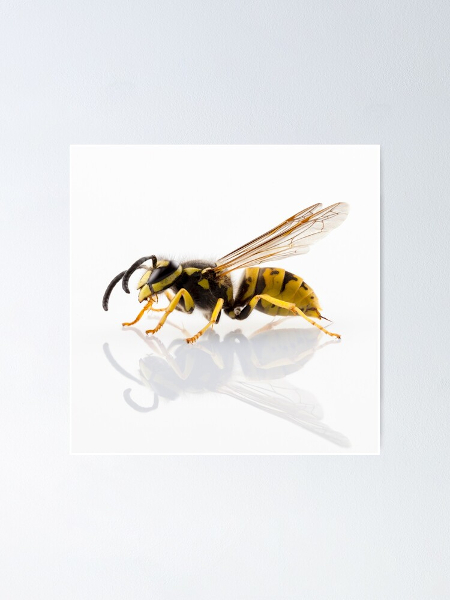chax: (100, 190, 367, 355)
